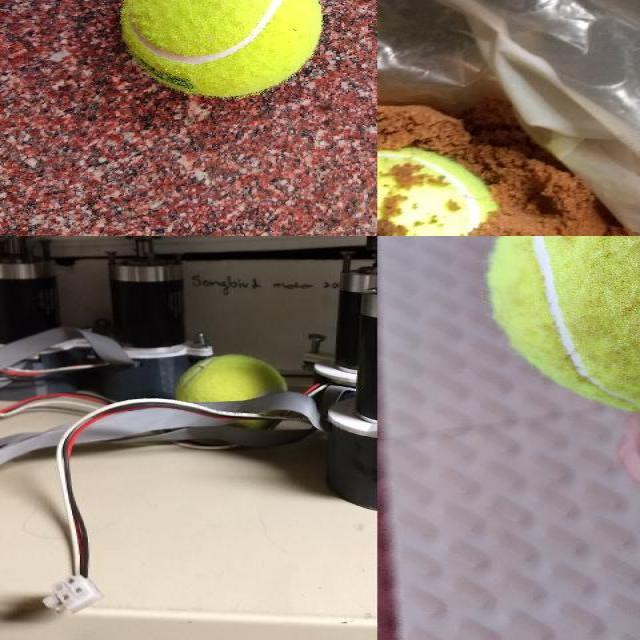tennis-ball: (483, 236, 639, 419), (120, 0, 324, 97), (378, 145, 502, 235), (175, 354, 287, 391)
